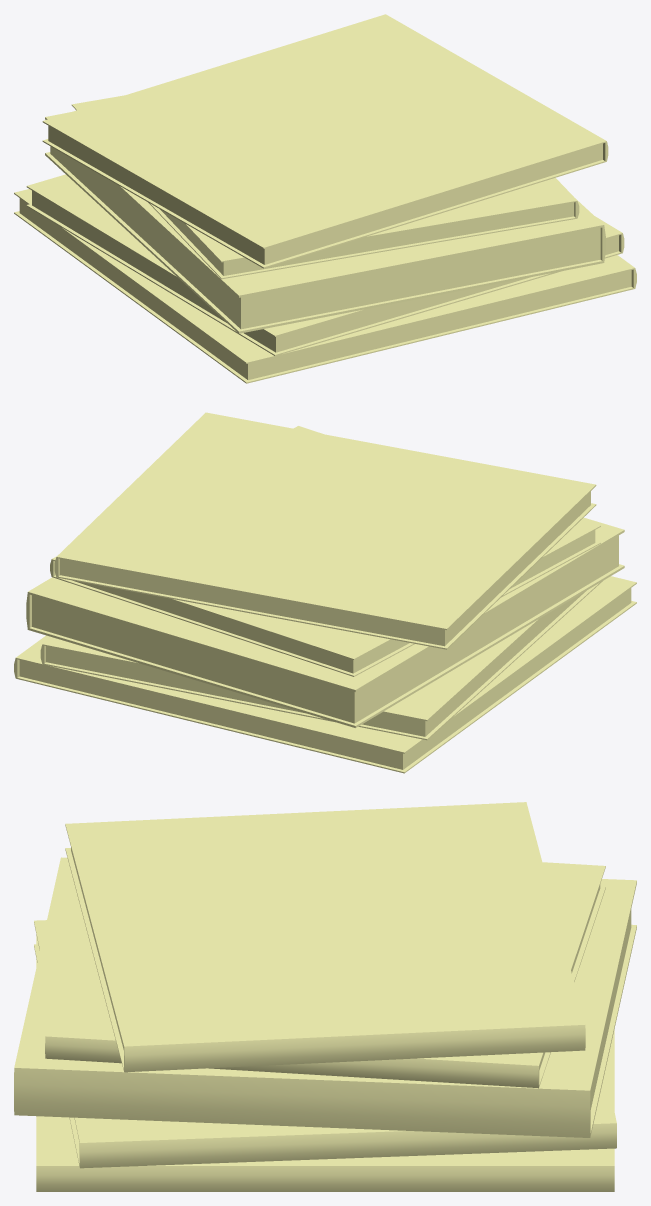
Rendered from MangaKa Props - A_R_Books_17.glb.
The picture shows the model from 3 angles, top to bottom: view 1: azimuth 30°, elevation 25°; view 2: azimuth 150°, elevation 25°; view 3: azimuth 270°, elevation 25°; orthographic projection. The views are drawn at different scales.
Visible parts, largest first — view 1: A_R_Books_17_blueScreen; view 2: A_R_Books_17_blueScreen; view 3: A_R_Books_17_blueScreen.
Boxes of the visible parts, <box> form: A_R_Books_17_blueScreen: <box>14,14,636,383</box>; A_R_Books_17_blueScreen: <box>14,412,636,773</box>; A_R_Books_17_blueScreen: <box>14,802,636,1191</box>.
Size of the model in its own units: 0.3552 by 0.1009 by 0.3809.
